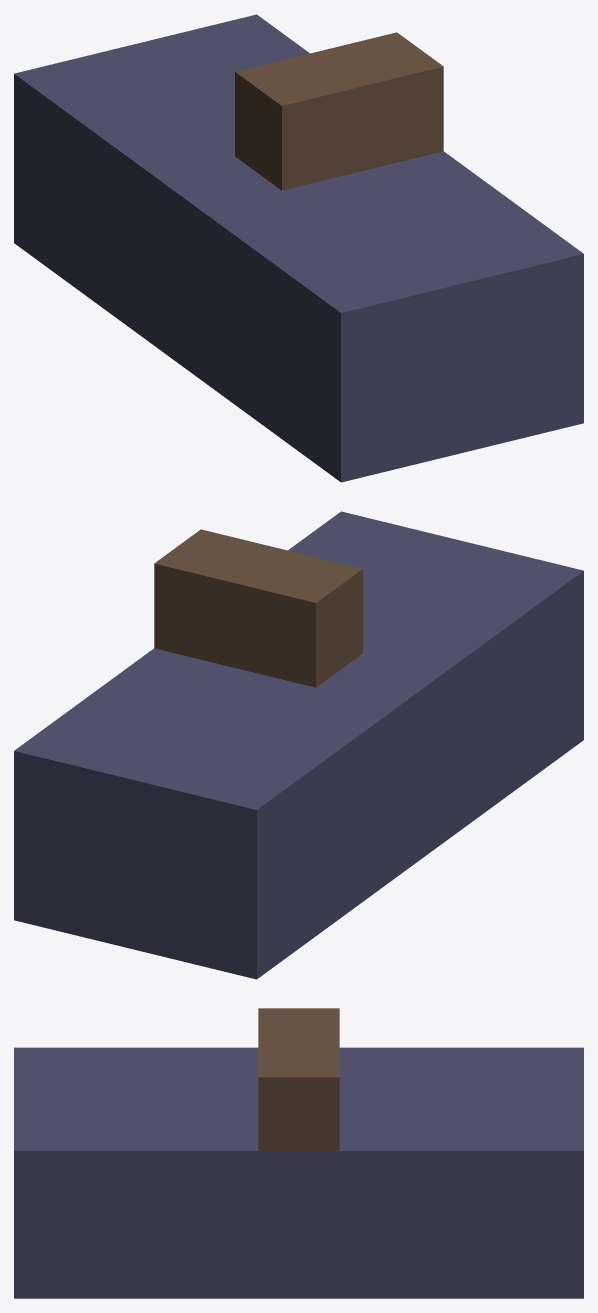
The model's file is mystic_rare_boot_foot_L_lod1.glb.
3 renders of one model, top to bottom at view 1: azimuth 30°, elevation 25°; view 2: azimuth 150°, elevation 25°; view 3: azimuth 270°, elevation 25°, orthographic. The views are drawn at different scales.
Parts seen in each view (by area): view 1: mystic_rare_boot_foot_L_lod1; view 2: mystic_rare_boot_foot_L_lod1; view 3: mystic_rare_boot_foot_L_lod1.
Part boxes in pixels (x1,y1,x2,y2): mystic_rare_boot_foot_L_lod1: (14, 14, 583, 482); mystic_rare_boot_foot_L_lod1: (14, 511, 583, 979); mystic_rare_boot_foot_L_lod1: (14, 1008, 583, 1298).
Bounding box in the file's own units: 0.144 × 0.144 × 0.336.
